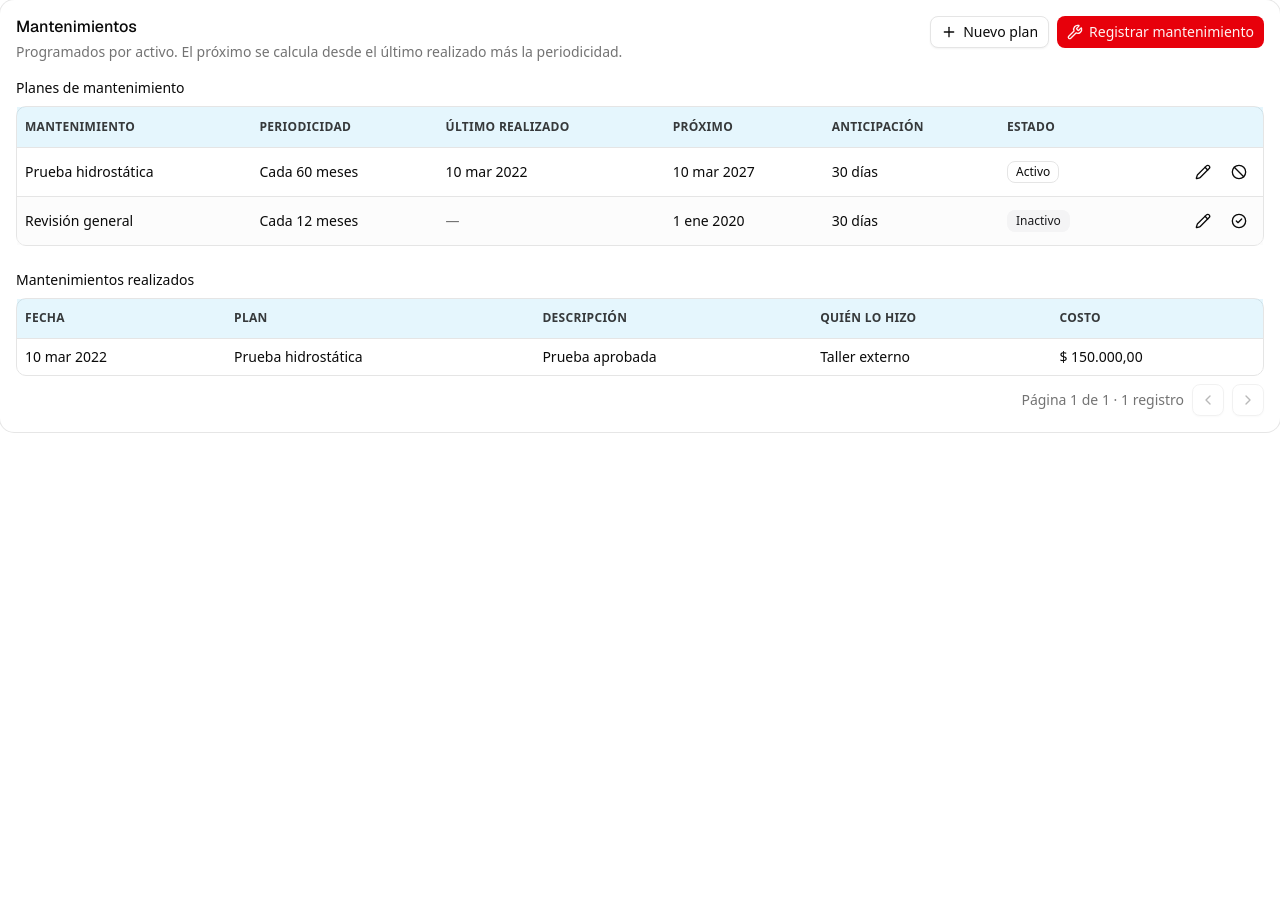
Test: MaintenanceSection (005 US4, RN-029, RN-030, D-003) › edita un plan conservando su estado y muestra los 422 junto al campo
What coordinates should you click on to do the following:
click the button named "Editar Prueba hidrostática"
I would click on:
 (1203, 172)
Its box is x1=1187 y1=156 x2=1219 y2=188.
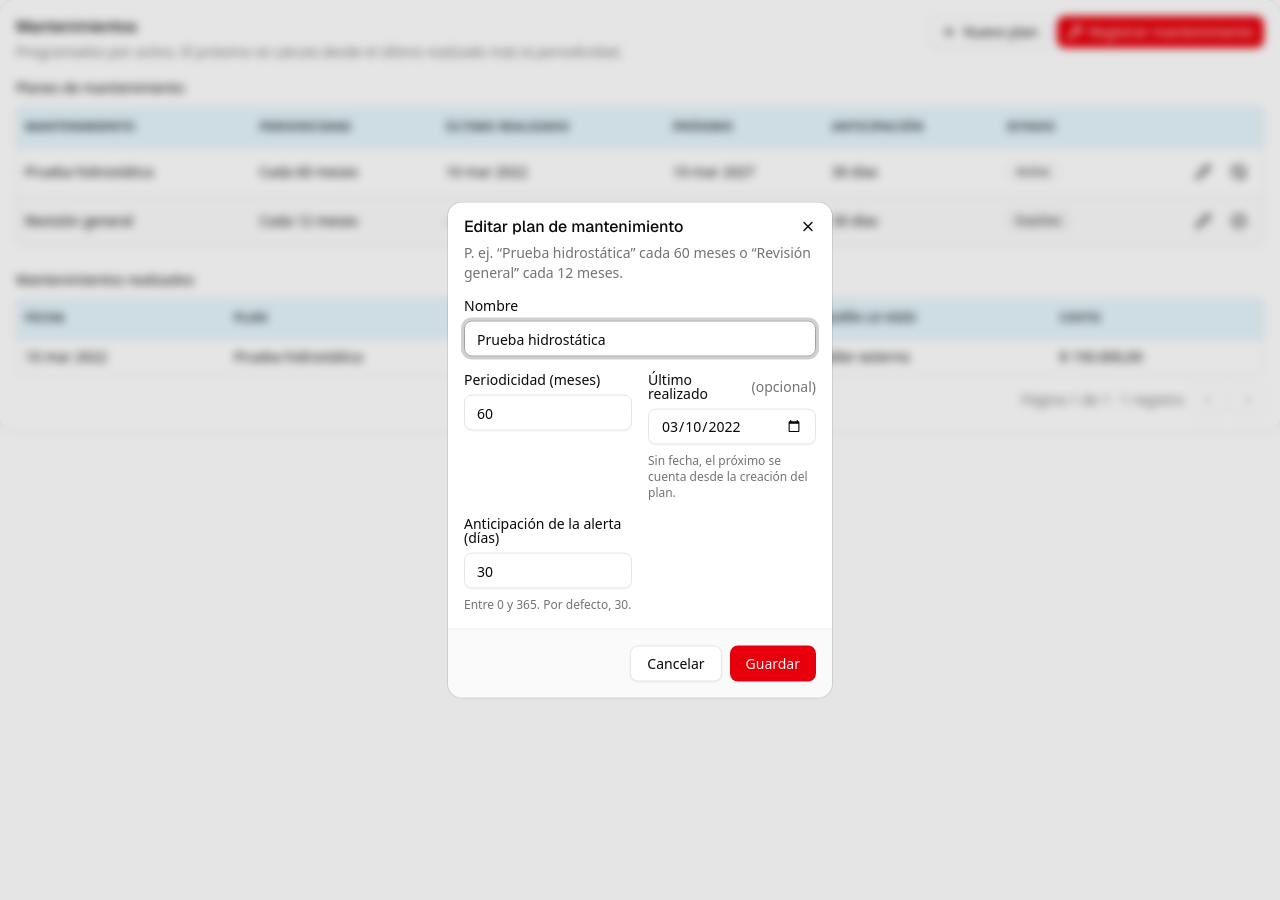
Now the field labelled "Nombre" holds "Prueba hidrostática", box x1=464 y1=320 x2=816 y2=356
What coordinates should you click on to do the following:
click the button "Guardar"
I would click on:
 (773, 664)
Its box is x1=730 y1=646 x2=816 y2=682.
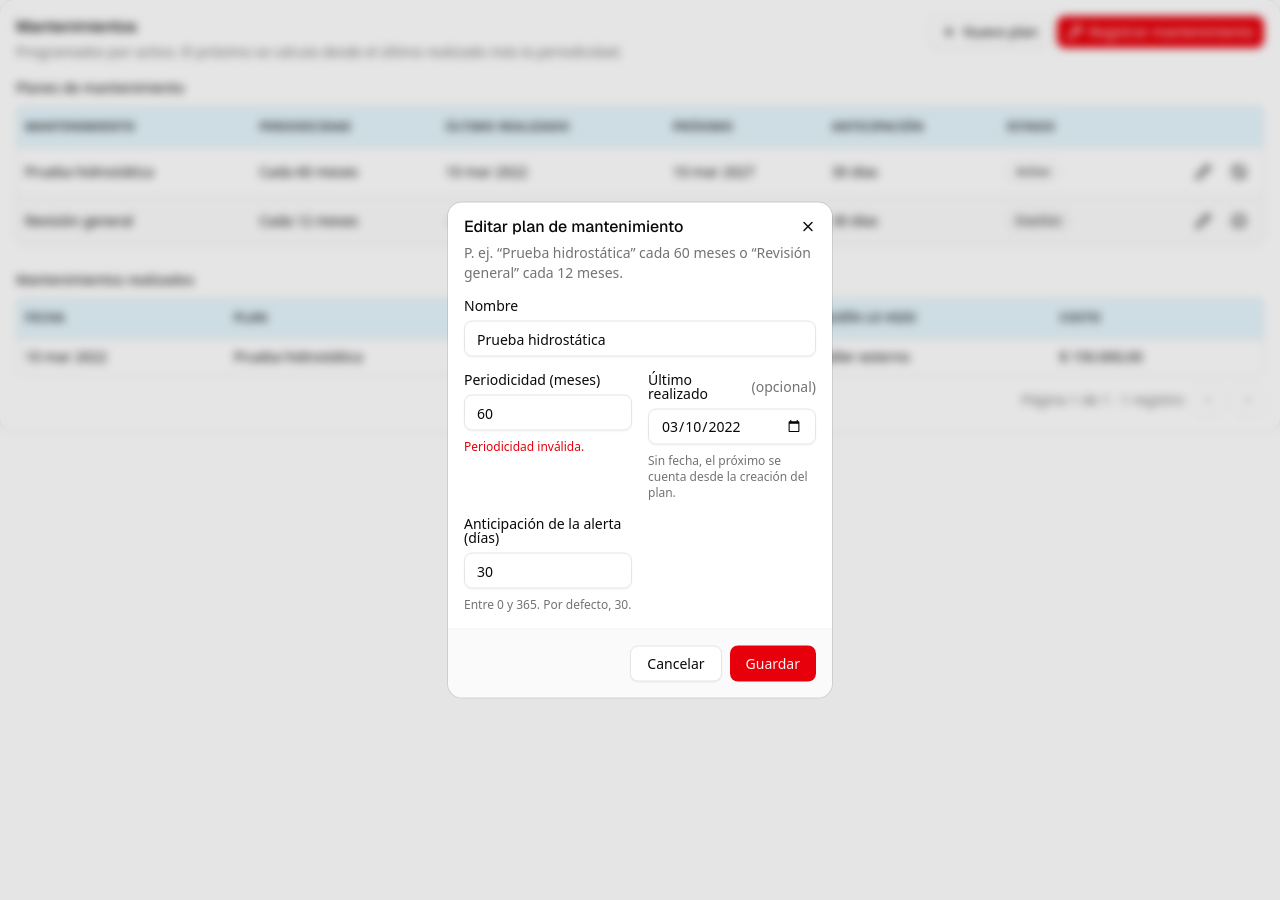
Now the text "Periodicidad inválida." is shown, box x1=464 y1=438 x2=584 y2=454
